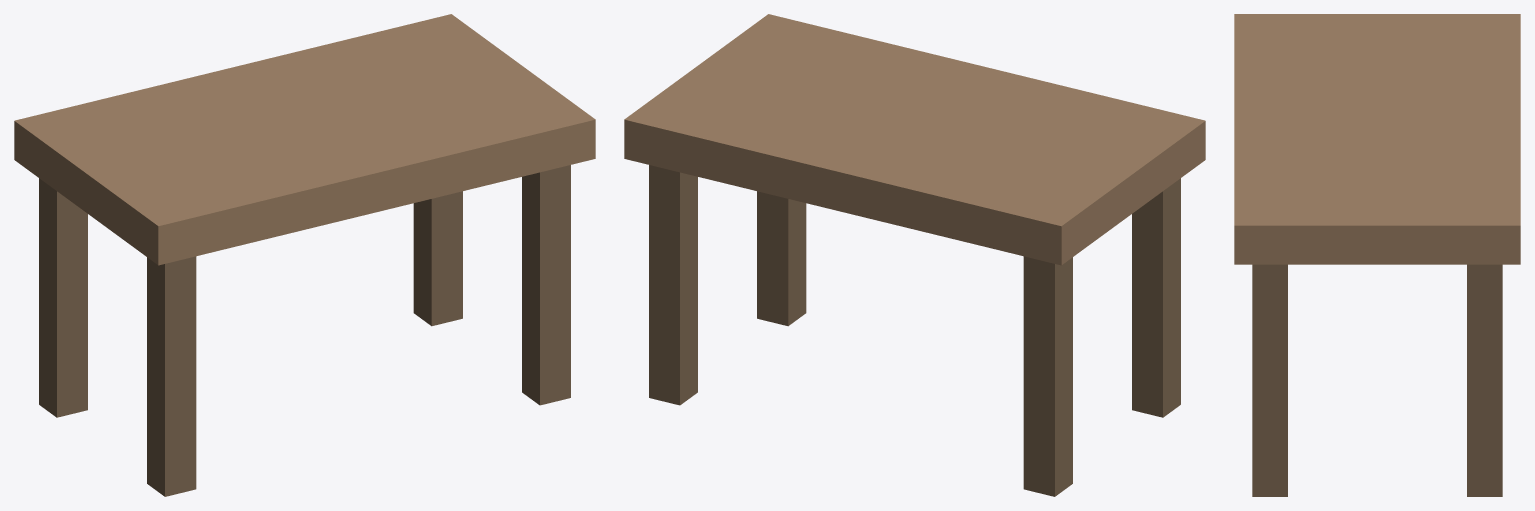
The model's file is table.glb.
3 views of the same model, side by side, from view 1: azimuth 30°, elevation 25°; view 2: azimuth 150°, elevation 25°; view 3: azimuth 270°, elevation 25° (orthographic).
Parts seen in each view (by area): view 1: part_0, part_1, part_3, part_2, part_4; view 2: part_0, part_2, part_4, part_1, part_3; view 3: part_0, part_3, part_4.
Part boxes in pixels (left/top/right/bottom): part_0: left=14, top=14, right=595, bottom=265; part_1: left=147, top=256, right=196, bottom=496; part_3: left=522, top=165, right=570, bottom=405; part_2: left=39, top=178, right=87, bottom=417; part_4: left=413, top=191, right=462, bottom=326; part_0: left=624, top=14, right=1205, bottom=265; part_2: left=1023, top=256, right=1072, bottom=496; part_4: left=649, top=165, right=697, bottom=405; part_1: left=1132, top=178, right=1180, bottom=417; part_3: left=757, top=191, right=806, bottom=326; part_0: left=1234, top=14, right=1520, bottom=264; part_3: left=1252, top=264, right=1287, bottom=496; part_4: left=1467, top=264, right=1502, bottom=496.
Bounding box in the file's own units: 1.4 × 0.86 × 0.8.
